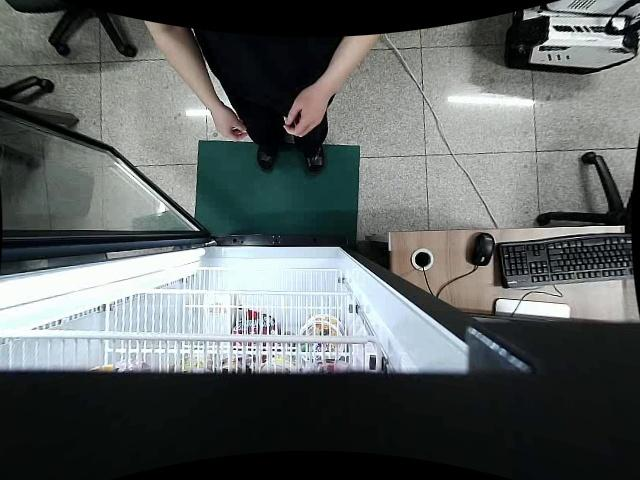00_hand: (281, 83, 330, 138), (209, 102, 248, 140)
